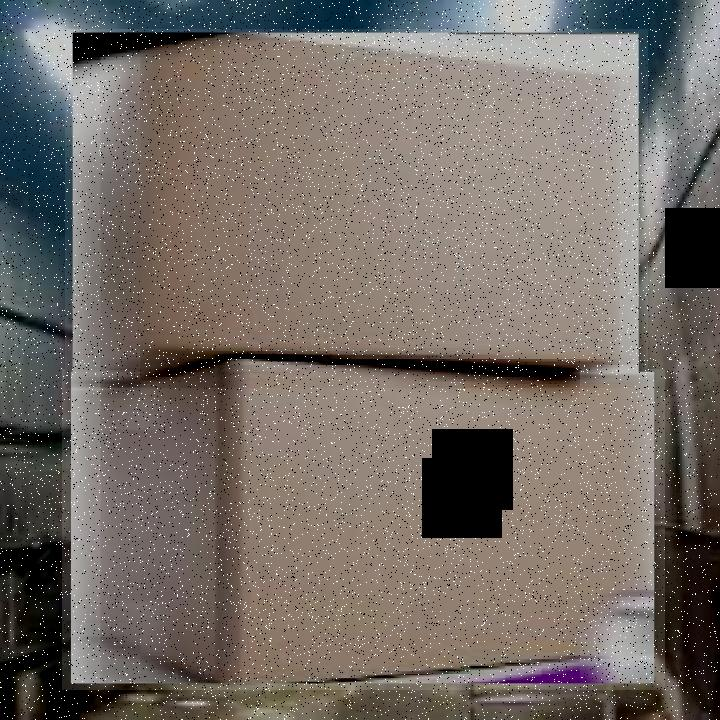box: (65, 30, 648, 390), (62, 370, 665, 692)
